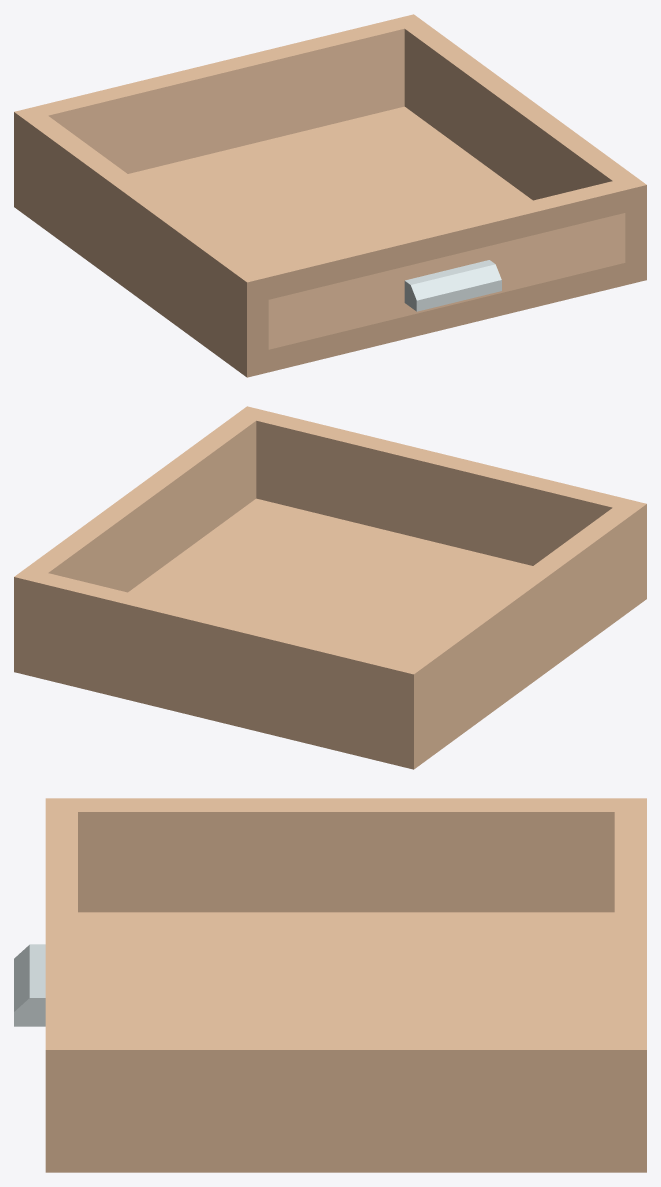
File: cabinet_drawer.glb
3 renders of one model, top to bottom at view 1: azimuth 30°, elevation 25°; view 2: azimuth 150°, elevation 25°; view 3: azimuth 270°, elevation 25°, orthographic. The views are drawn at different scales.
Visible parts, largest first — view 1: drawer; view 2: drawer; view 3: drawer.
Part boxes in pixels (<box>): drawer: <box>14,14,646,377</box>; drawer: <box>14,406,646,769</box>; drawer: <box>14,798,646,1172</box>.
Size of the model in its own units: 0.3763 by 0.0856 by 0.4.
